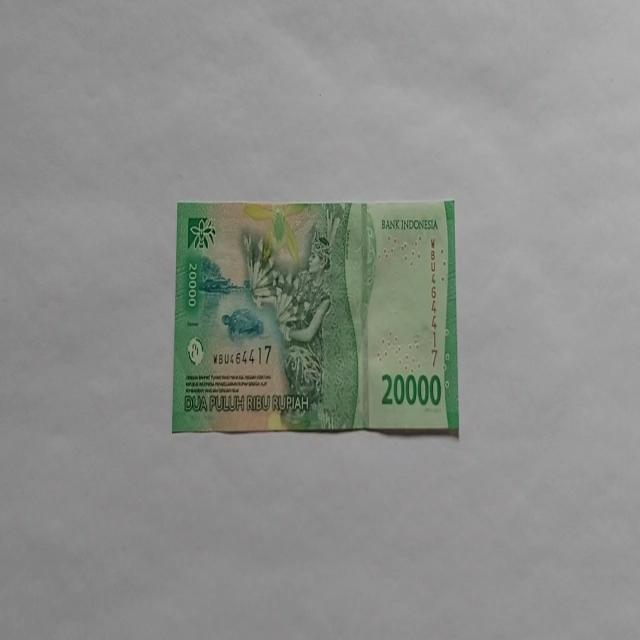dua puluh ribu rupiah: (172, 198, 460, 438), (241, 204, 360, 430)
